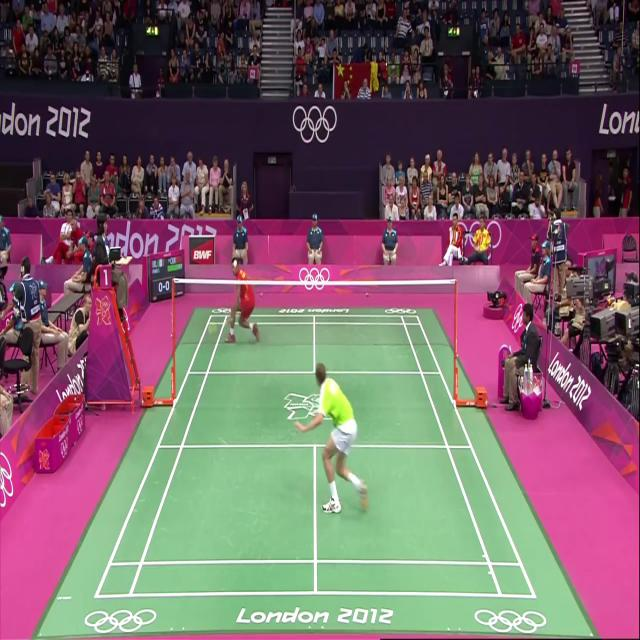Net: (174, 278, 458, 379)
Player1: (301, 338, 413, 538)
Player2: (216, 230, 282, 361)
